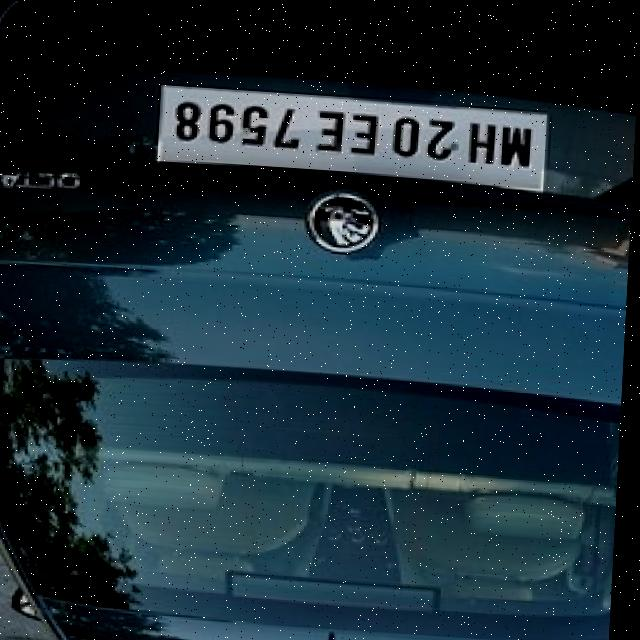plate: (153, 83, 551, 183)
